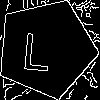L: (21, 23, 53, 72)
